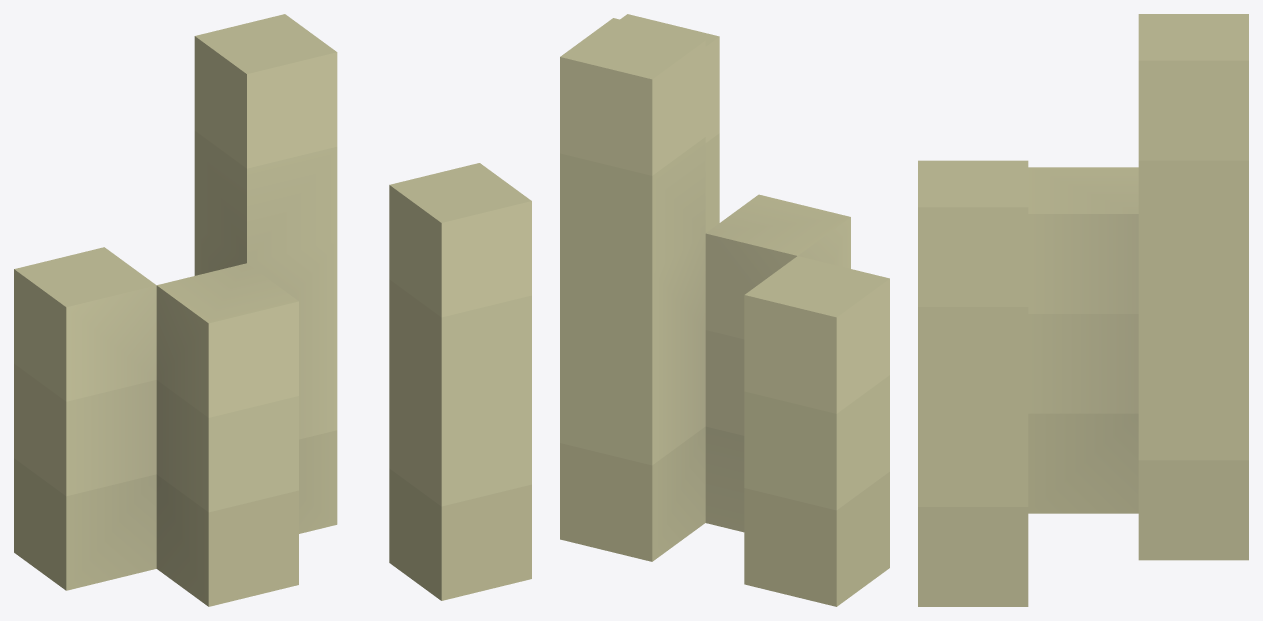
File: decor_reeds_a.glb
3 renders of one model, left to right at view 1: azimuth 30°, elevation 25°; view 2: azimuth 150°, elevation 25°; view 3: azimuth 270°, elevation 25°, orthographic. The views are drawn at different scales.
Parts seen in each view (by area): view 1: decor_reeds_a; view 2: decor_reeds_a; view 3: decor_reeds_a.
Part boxes in pixels (box(x1,y1,x2,y2)): decor_reeds_a: box(14, 14, 531, 606); decor_reeds_a: box(560, 14, 889, 606); decor_reeds_a: box(918, 14, 1248, 606).
Size of the model in its own units: 0.25 by 0.3125 by 0.1875.
